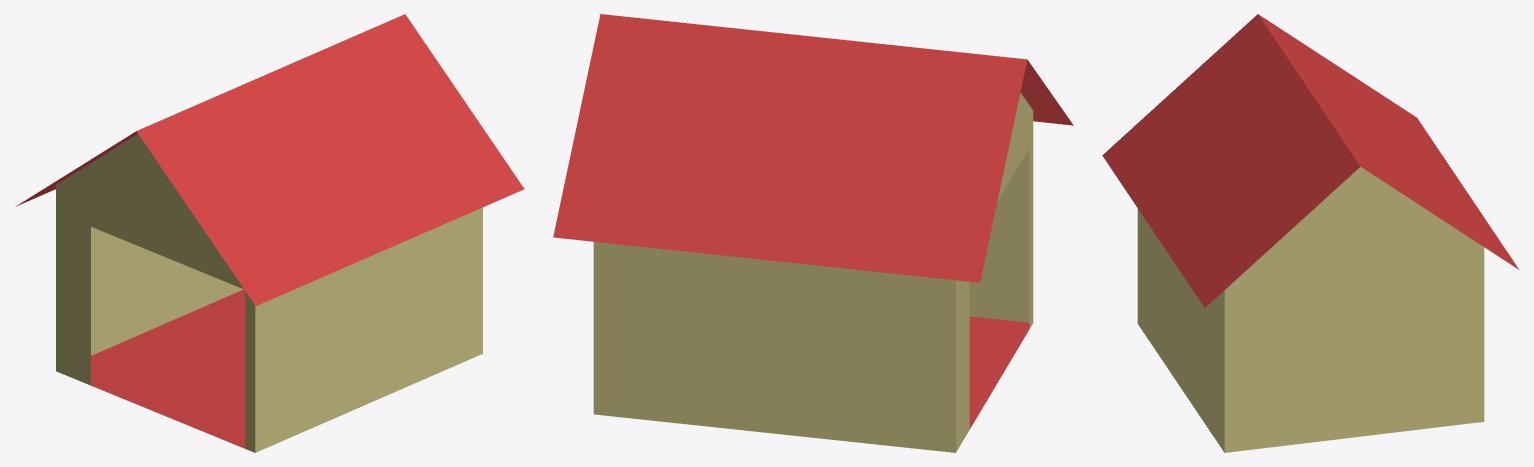
3 views of the same model, side by side, from view 1: azimuth 30°, elevation 25°; view 2: azimuth 150°, elevation 25°; view 3: azimuth 270°, elevation 25° (orthographic). The views are drawn at different scales.
Bounding box in the file's own units: 15.79 × 14.62 × 10.92.
